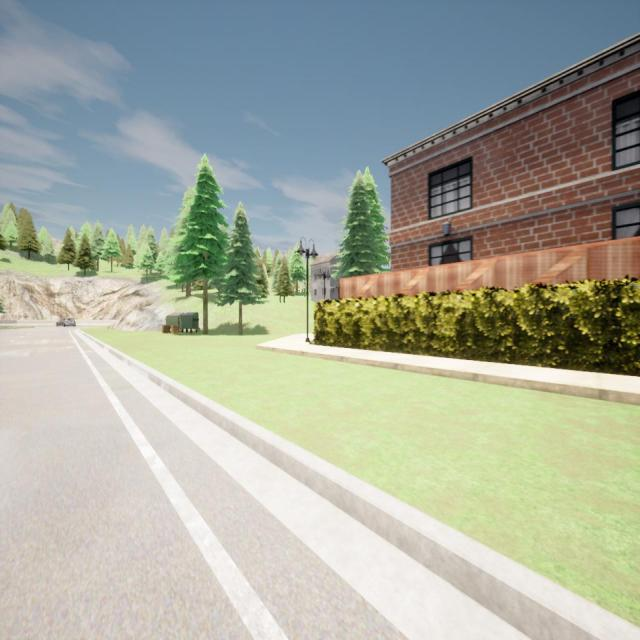Vehicle: (56, 318, 76, 327)
